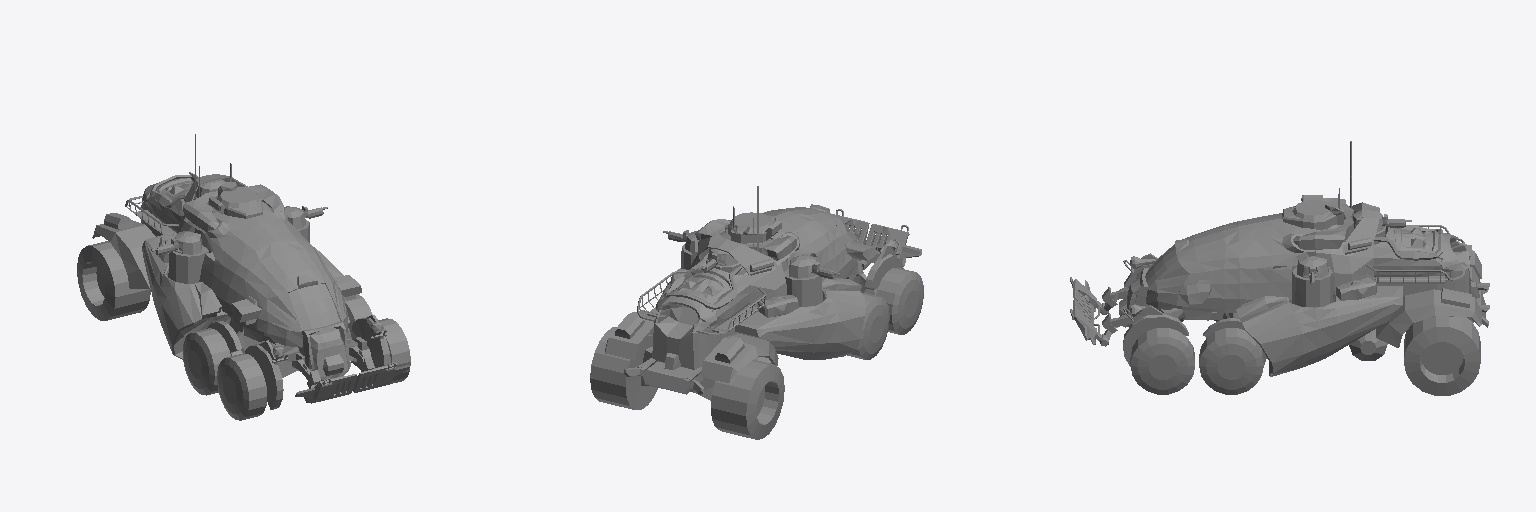
The model's file is apc.obj.
The picture shows the model from 3 angles: view 1: azimuth 30°, elevation 25°; view 2: azimuth 150°, elevation 25°; view 3: azimuth 270°, elevation 25°; orthographic projection.
Visible parts, largest first — view 1: cog_apc_final_optimized; view 2: cog_apc_final_optimized; view 3: cog_apc_final_optimized.
Part boxes in pixels (x1,y1,x2,y2): cog_apc_final_optimized: (77,134,410,420); cog_apc_final_optimized: (590,186,923,439); cog_apc_final_optimized: (1070,141,1489,395).
Size of the model in its own units: 398 by 442 by 823.